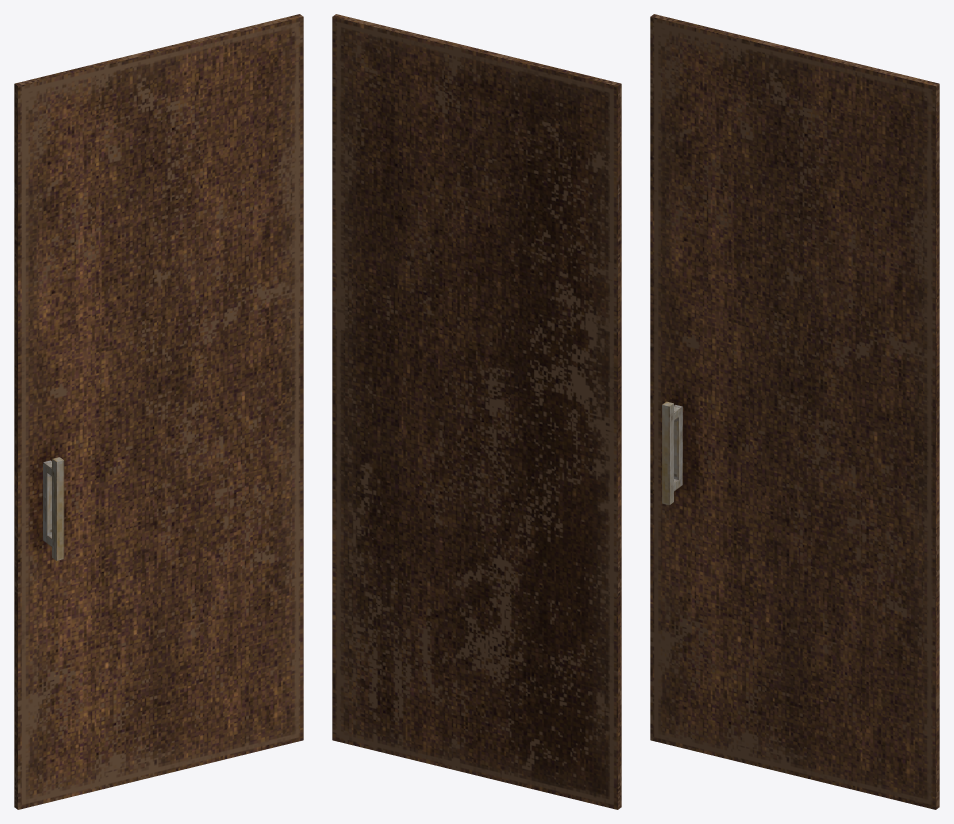
File: Wardrobe_door_Left.fbx
The picture shows the model from 3 angles, left to right: view 1: azimuth 30°, elevation 25°; view 2: azimuth 150°, elevation 25°; view 3: azimuth 330°, elevation 25°; orthographic projection.
Parts seen in each view (by area): view 1: Wardrobe_door_Left; view 2: Wardrobe_door_Left; view 3: Wardrobe_door_Left.
Boxes of the visible parts, x1,y1,x2,y2 form: Wardrobe_door_Left: [14, 14, 303, 809]; Wardrobe_door_Left: [332, 14, 621, 809]; Wardrobe_door_Left: [650, 14, 939, 809].
Bounding box in the file's own units: 4.69 × 45.09 × 109.
